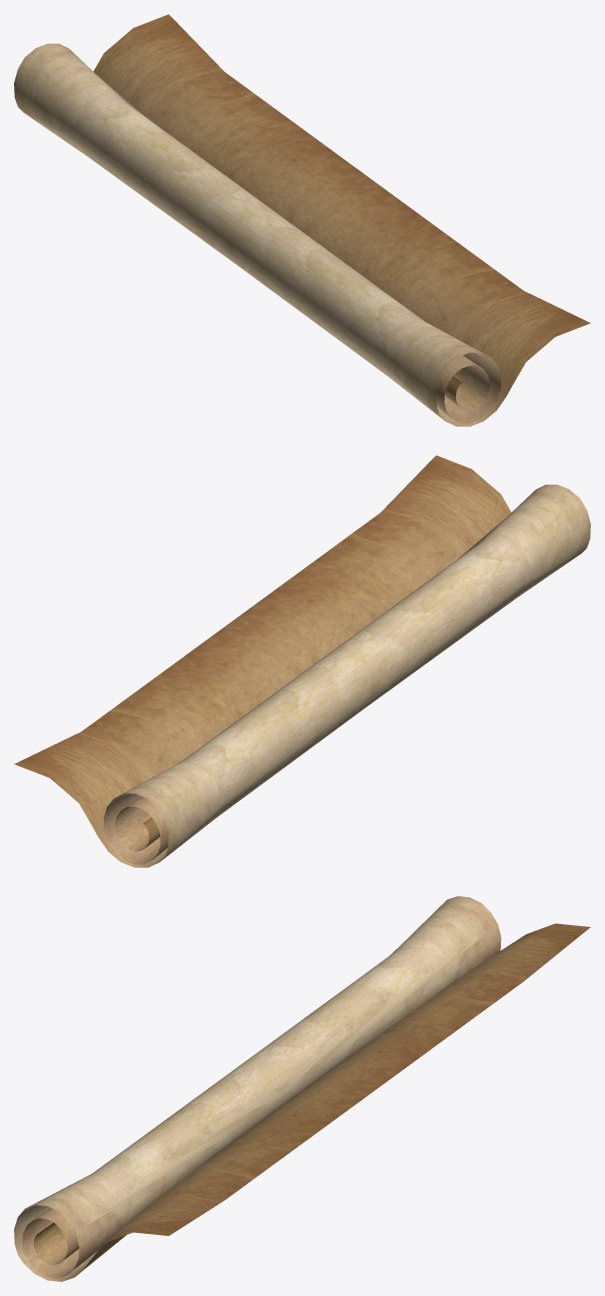
Rendered from Scroll03.fbx.
The picture shows the model from 3 angles, top to bottom: view 1: azimuth 30°, elevation 25°; view 2: azimuth 150°, elevation 25°; view 3: azimuth 330°, elevation 25°; orthographic projection.
Parts seen in each view (by area): view 1: Plane004; view 2: Plane004; view 3: Plane004.
Part boxes in pixels (<box>): Plane004: <box>14,14,590,426</box>; Plane004: <box>14,455,590,867</box>; Plane004: <box>14,896,590,1281</box>.
Size of the model in its own units: 8.11 by 3.71 by 38.29.
1 material, 1 textured.
